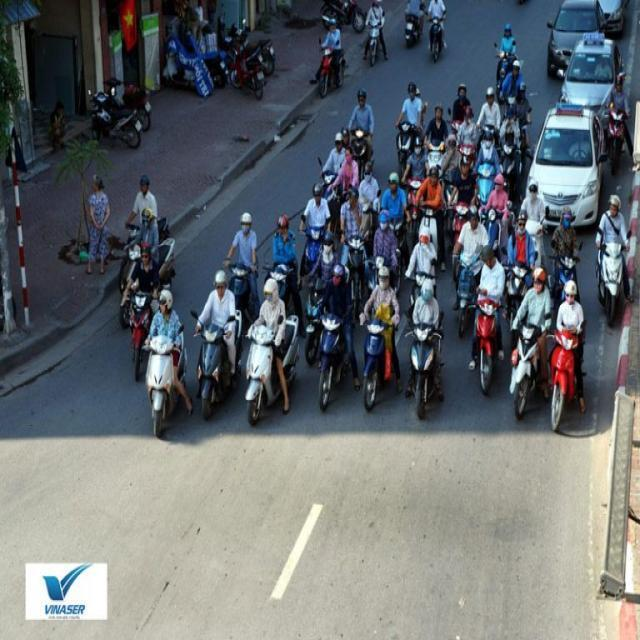car: (532, 105, 601, 241), (556, 43, 616, 127), (544, 4, 604, 80), (591, 0, 631, 34)
motorcycle: (400, 276, 445, 423), (240, 304, 292, 431), (309, 278, 353, 413), (353, 280, 396, 415), (535, 313, 582, 431), (140, 330, 188, 437), (508, 309, 550, 425), (464, 286, 505, 402), (195, 314, 233, 427), (90, 86, 153, 149), (594, 216, 631, 322), (237, 42, 275, 98), (314, 43, 341, 96), (395, 123, 418, 172), (345, 127, 373, 167), (363, 17, 384, 67), (425, 12, 444, 65), (401, 9, 422, 50)
